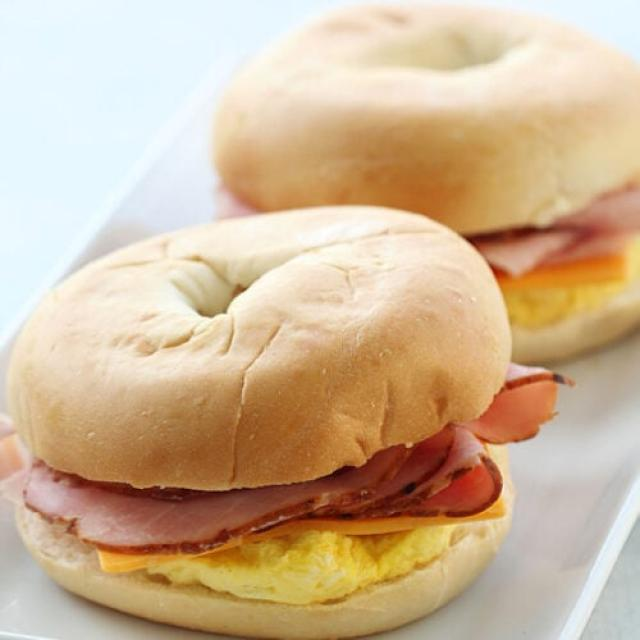Bagel: (10, 206, 511, 489), (214, 5, 640, 234)
